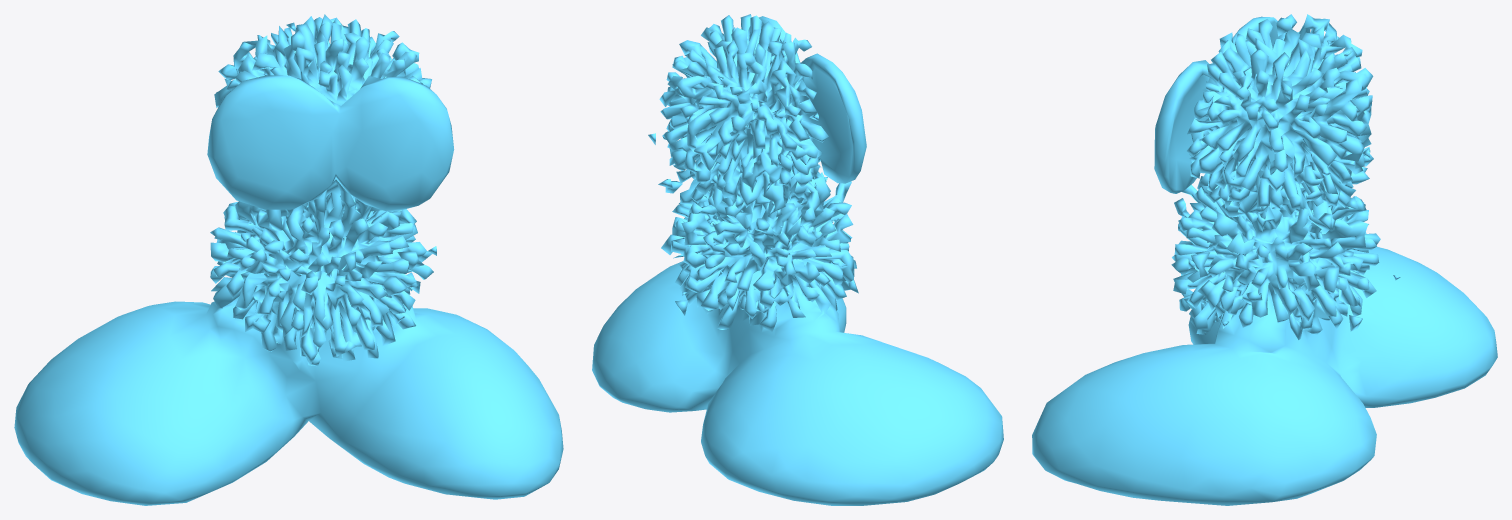
The model's file is zubi.glb.
The picture shows the model from 3 angles, left to right: view 1: azimuth 30°, elevation 25°; view 2: azimuth 150°, elevation 25°; view 3: azimuth 270°, elevation 25°; orthographic projection. The views are drawn at different scales.
Parts seen in each view (by area): view 1: Zubi_Body; view 2: Zubi_Body; view 3: Zubi_Body.
Part boxes in pixels (x1=…): Zubi_Body: x1=14, y1=14, x2=563, y2=505; Zubi_Body: x1=592, y1=14, x2=1003, y2=505; Zubi_Body: x1=1032, y1=14, x2=1497, y2=505.
Bounding box in the file's own units: 1.99 × 1.73 × 1.82.
